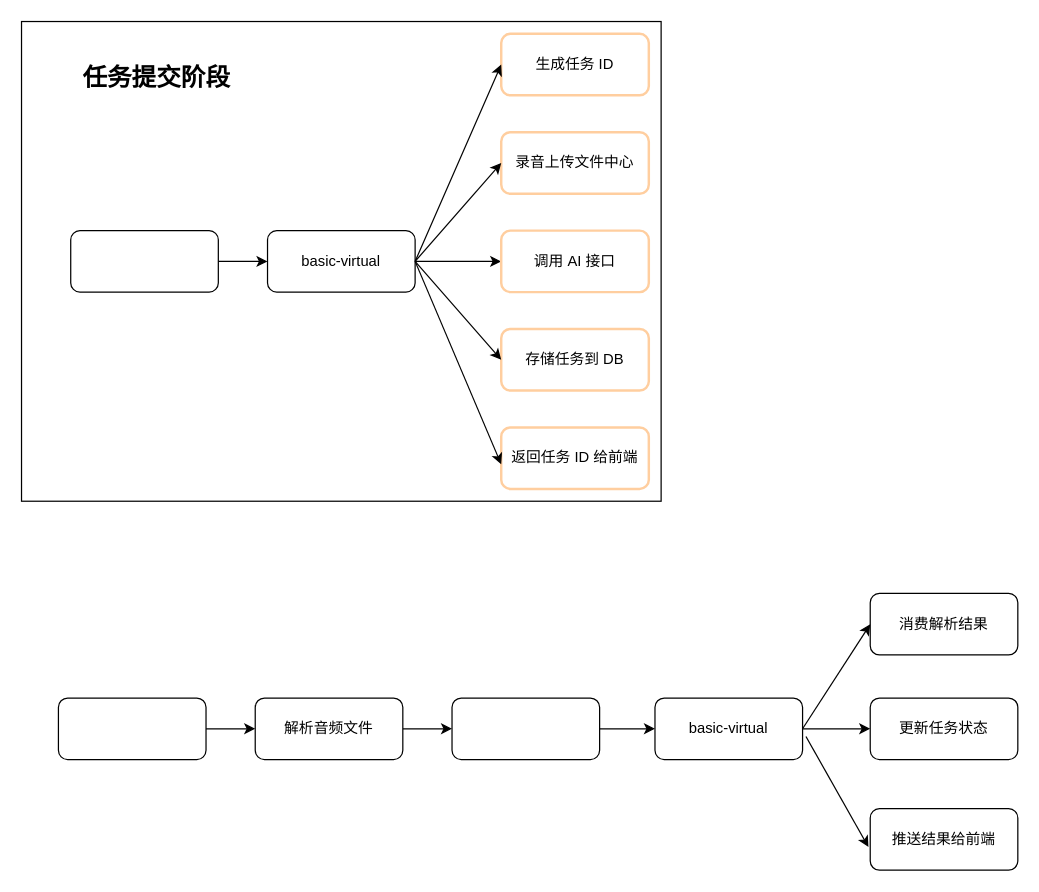
The diagram is 1039 pixels wide and 892 high, and some of its shapes have lost their labels. The box of each missing label's shape, as (x1, y1, x2, y2) in pixels:
AI 中心系统: (57, 697, 206, 760)
发送结果到消息队列: (451, 697, 600, 760)
用户点击转换: (69, 229, 218, 292)
